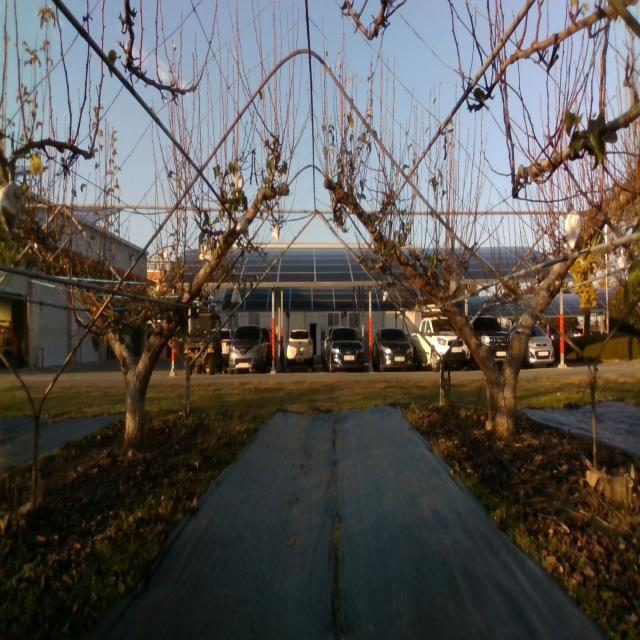pearbags: (0, 178, 24, 236), (564, 210, 581, 250), (201, 234, 213, 262), (237, 215, 250, 237), (234, 170, 244, 192), (450, 276, 460, 297)
